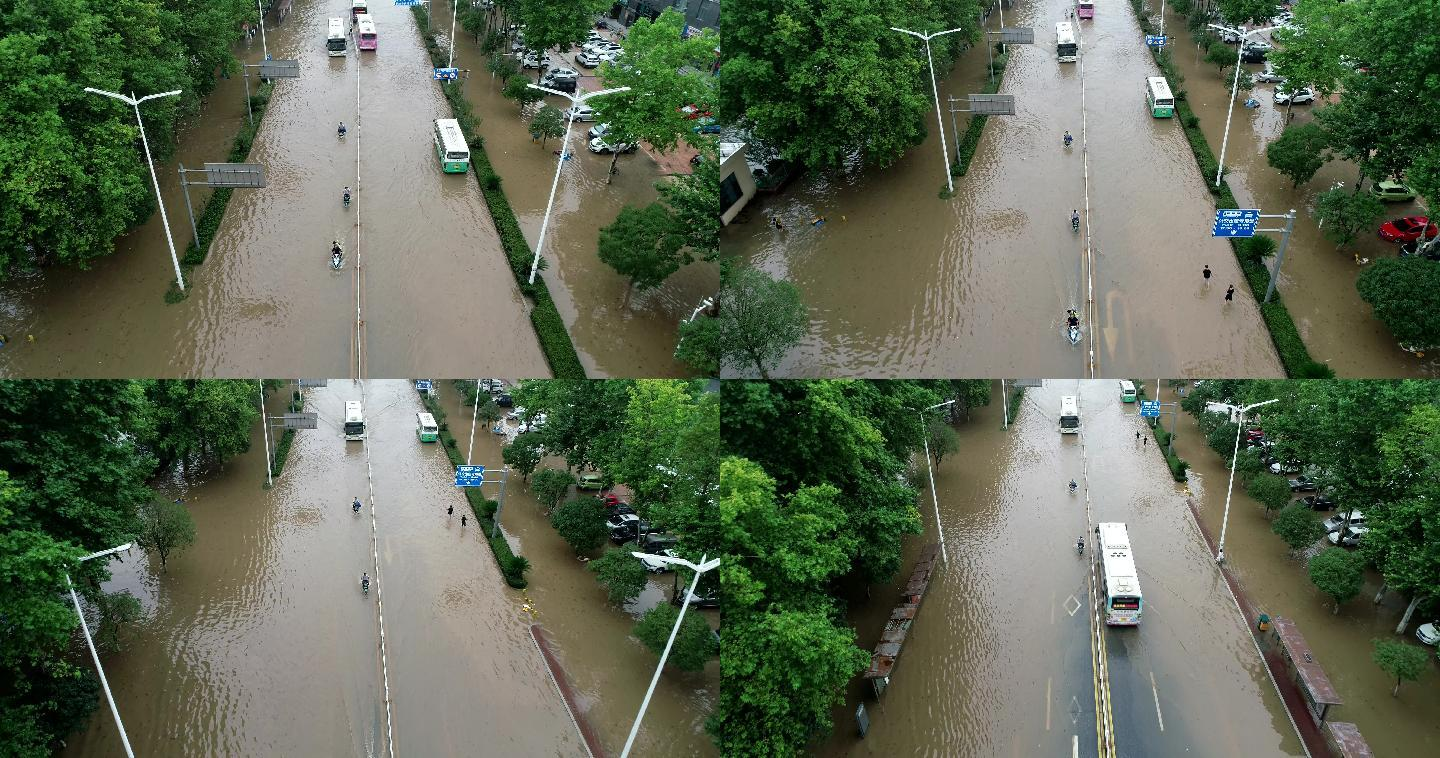puddle: (144, 58, 591, 388), (905, 427, 1292, 758), (166, 467, 550, 758), (916, 71, 1274, 383)
